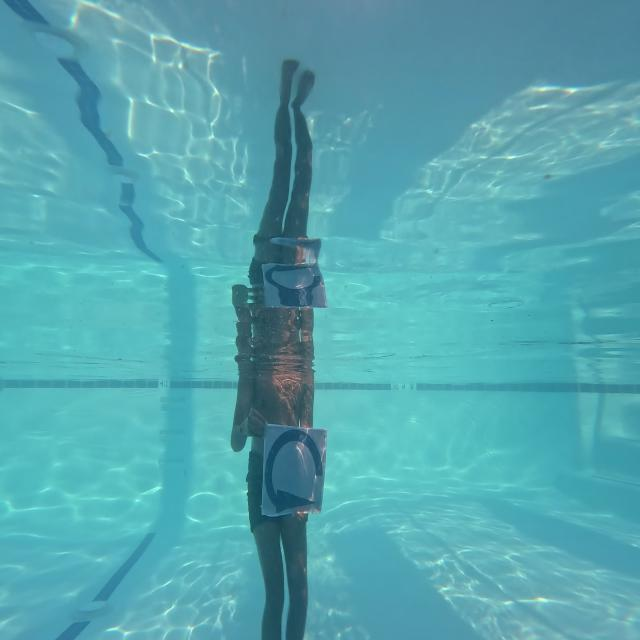blue_side: (262, 419, 326, 522)
